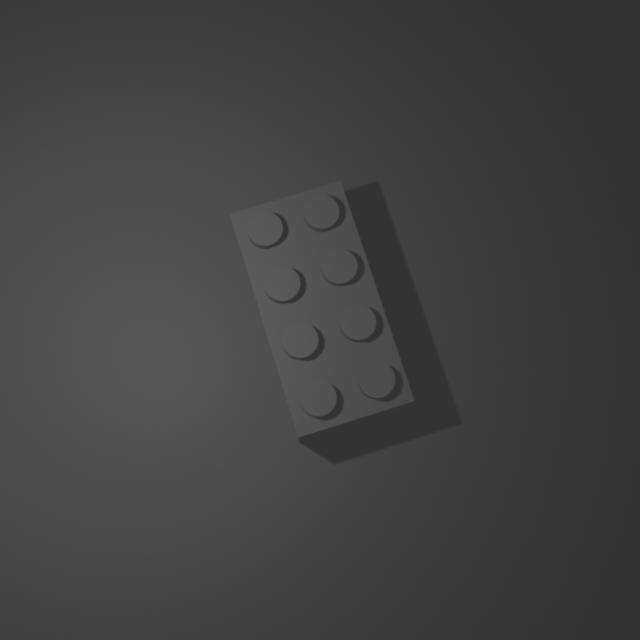lego_2x4: (228, 177, 416, 443)
